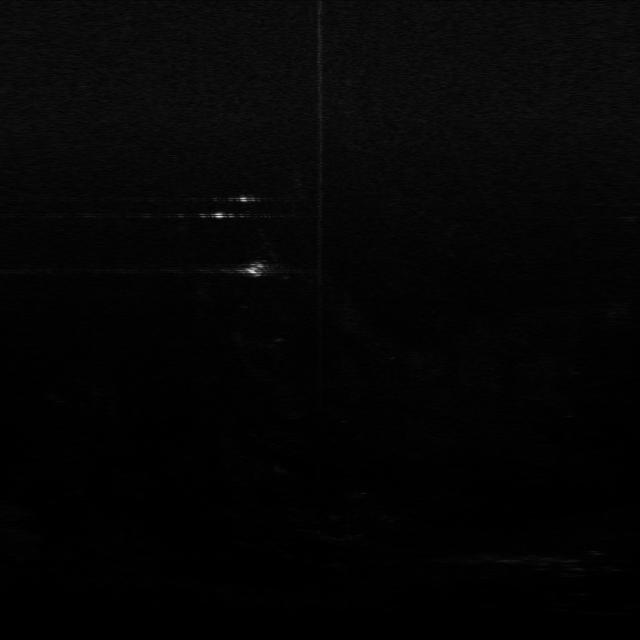rov: (236, 256, 274, 282)
